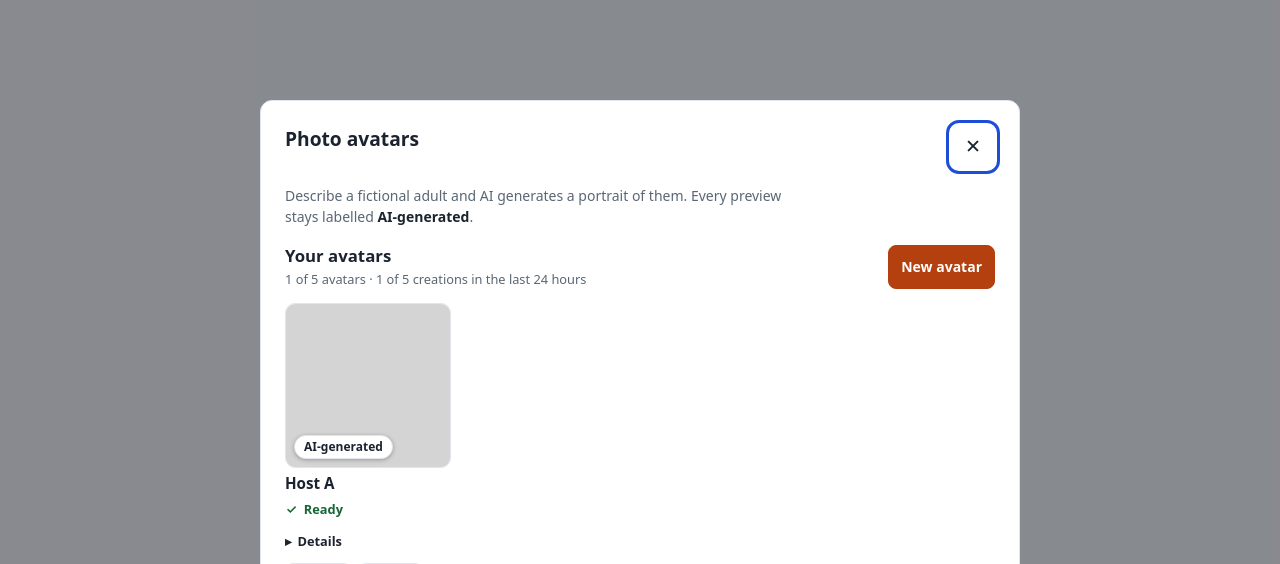
creating an avatar › explains a avatar_limit_reached refusal and re-reads the limits
Click the button "New avatar". click: [942, 267]
box: top-left (888, 245), bottom-right (995, 289)
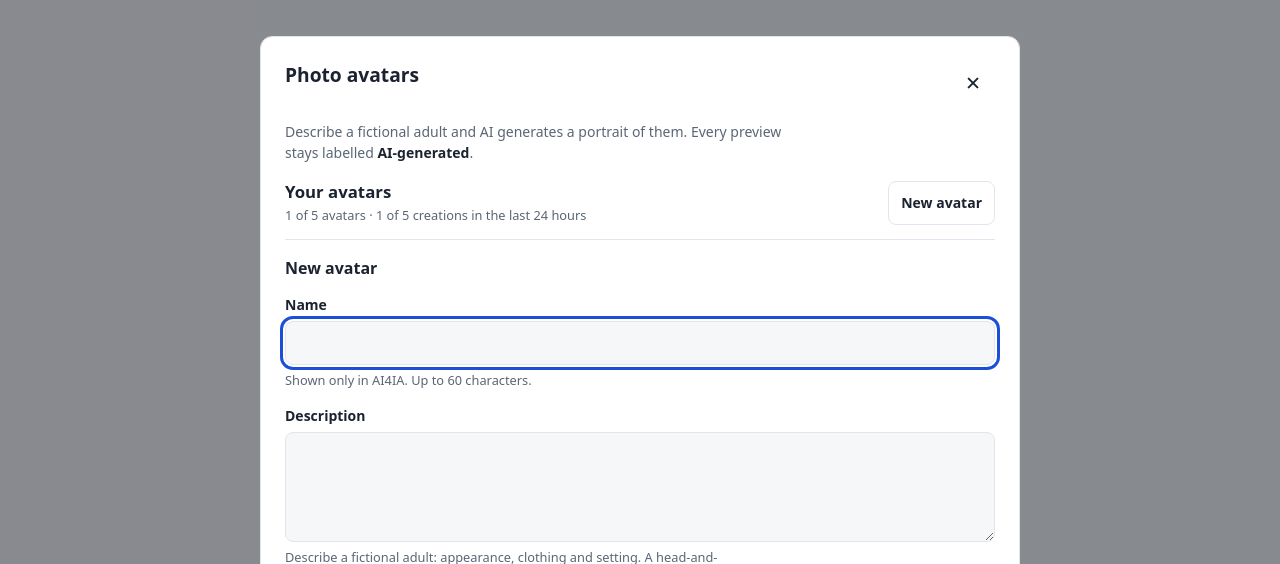
Type "Office guide" into the field labelled "Name". click: [640, 343]
box: top-left (285, 321), bottom-right (995, 365)
Type "A calm host in a blue jacket" into the text box labelled "Description". click: [640, 487]
box: top-left (285, 432), bottom-right (995, 542)
(page scrolled)
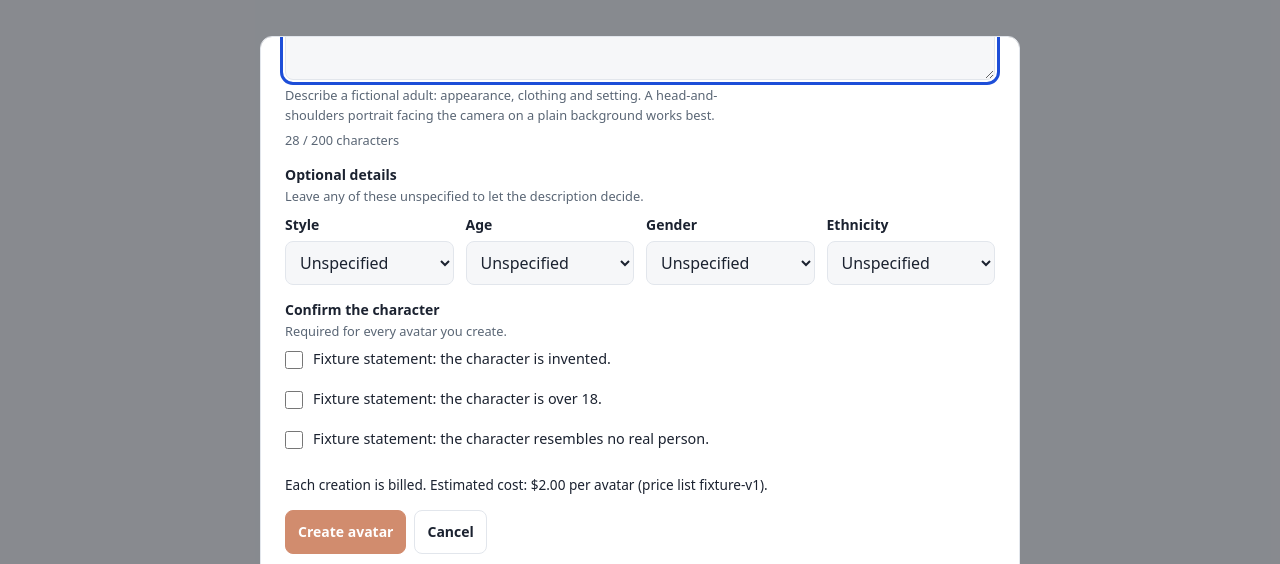
Click the checkbox labelled "Fixture statement: the character is invented.". click: [294, 360]
box: top-left (285, 351), bottom-right (303, 369)
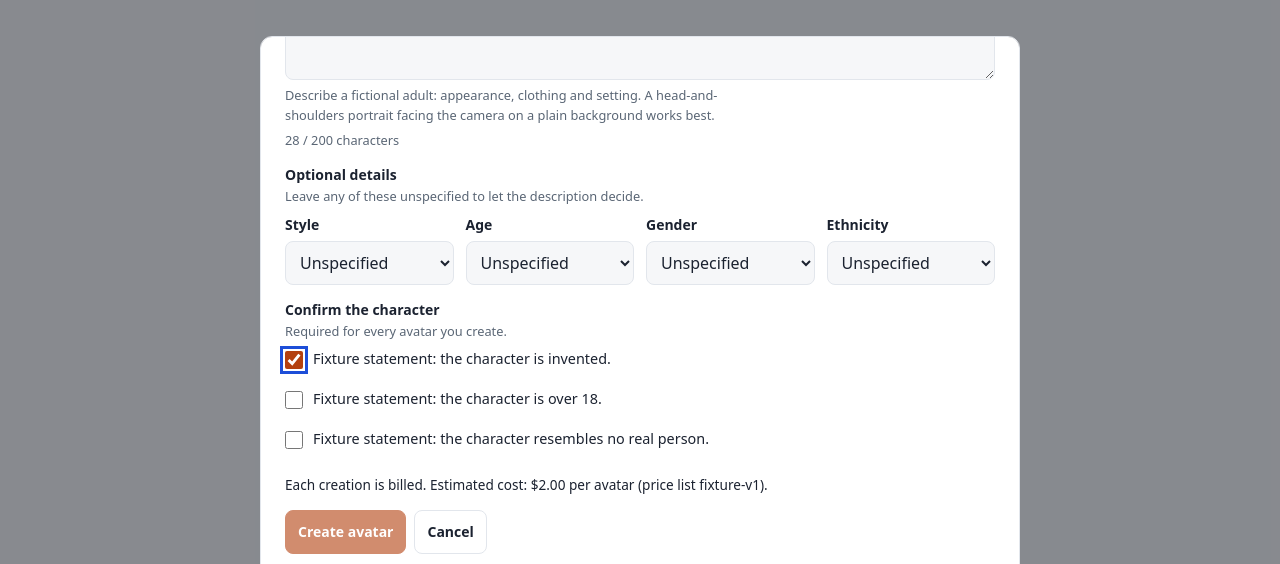
Click the checkbox labelled "Fixture statement: the character is over 18.". click: [294, 400]
box: top-left (285, 391), bottom-right (303, 409)
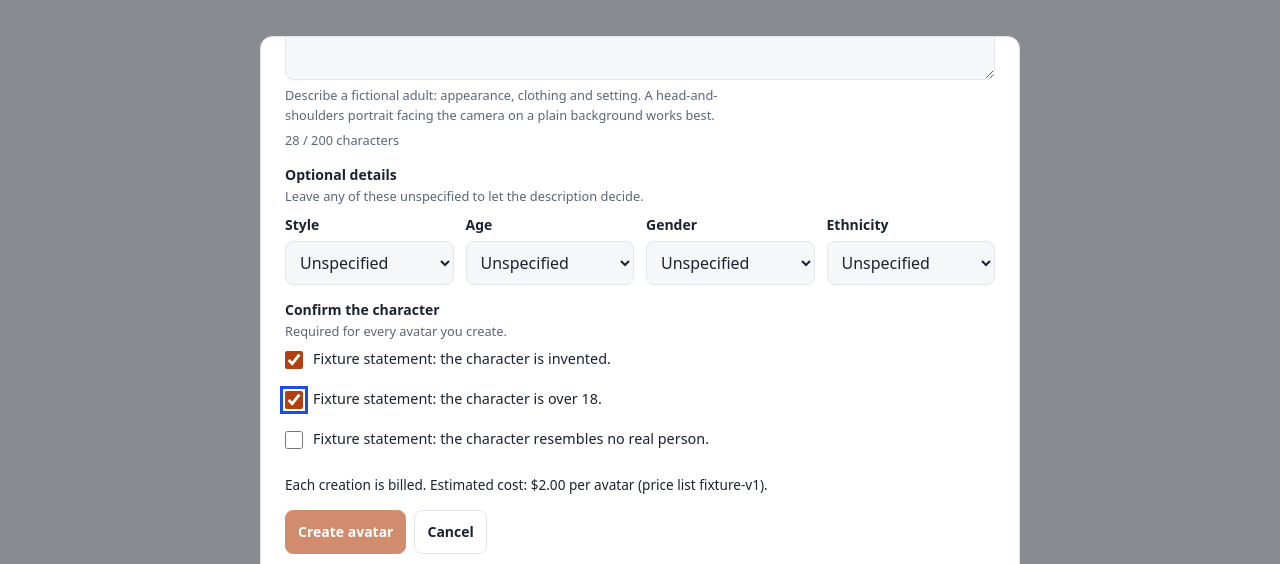
Click the checkbox labelled "Fixture statement: the character resembles no real person.". click: [294, 440]
box: top-left (285, 431), bottom-right (303, 449)
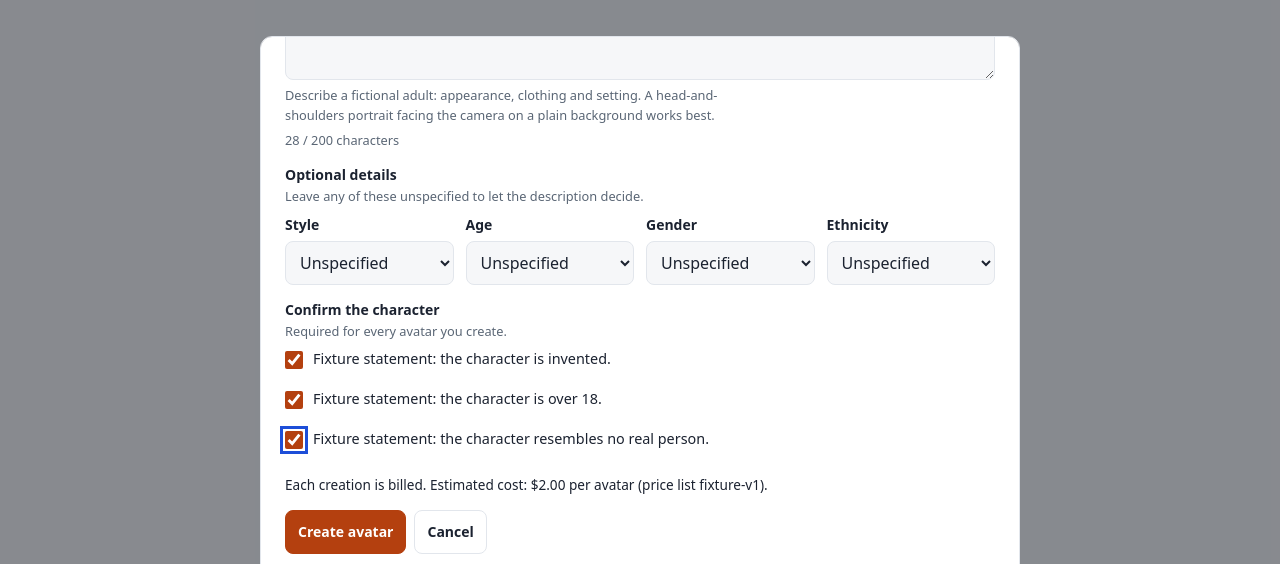
Click the button "Create avatar". click: [346, 532]
box: top-left (285, 510), bottom-right (406, 554)
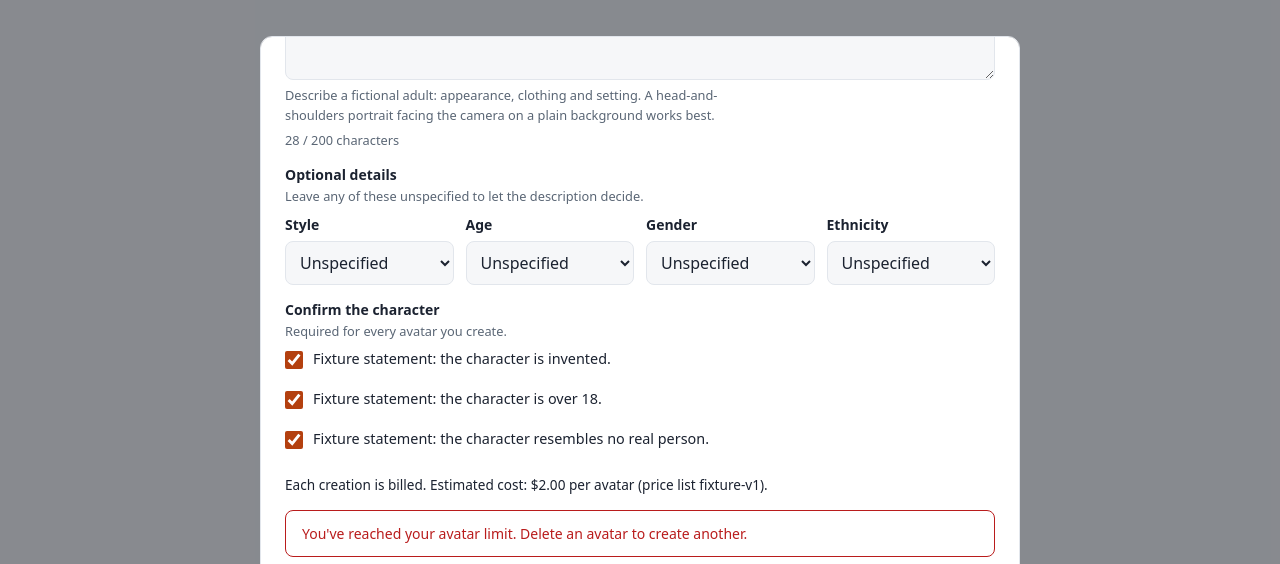
Check: the checkbox labelled "Fixture statement: the character is invented." is checked, box top-left (285, 351), bottom-right (303, 369)
Check: the checkbox labelled "Fixture statement: the character is over 18." is checked, box top-left (285, 391), bottom-right (303, 409)
Check: the message reads "You've reached your avatar limit. Delete an avatar to create another.", box top-left (302, 524), bottom-right (747, 543)
